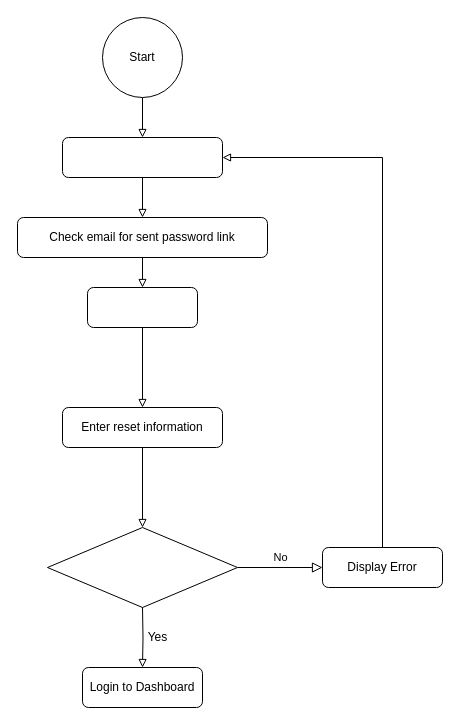
Some shapes in this 460 by 725 pixel diagram are drawn without their labels. Each missing label, with the box of its shape:
Enter Email: (62, 136, 222, 178)
Is information valid?: (46, 526, 238, 608)
Use Link: (86, 286, 198, 328)
